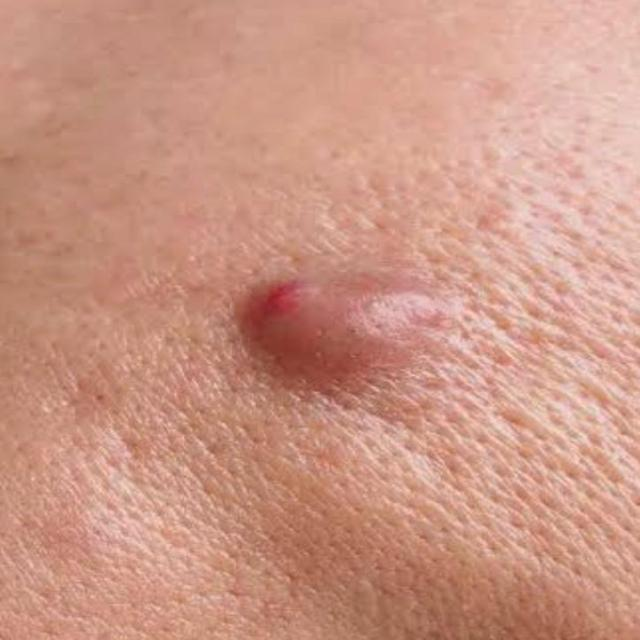nodule: (159, 260, 493, 415)
